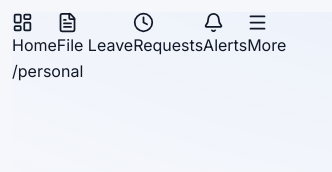
Test: mobile workspace navigation › navigates from the bottom bar and exposes the active destination
The width and height of the screenshot is (332, 172).
Click the button "File Leave" at point(95, 35), box [57, 12, 133, 59]
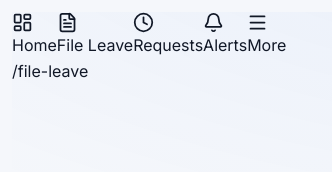
Expected: the text with test id "route" reads "/file-leave", [12, 61, 88, 81]
